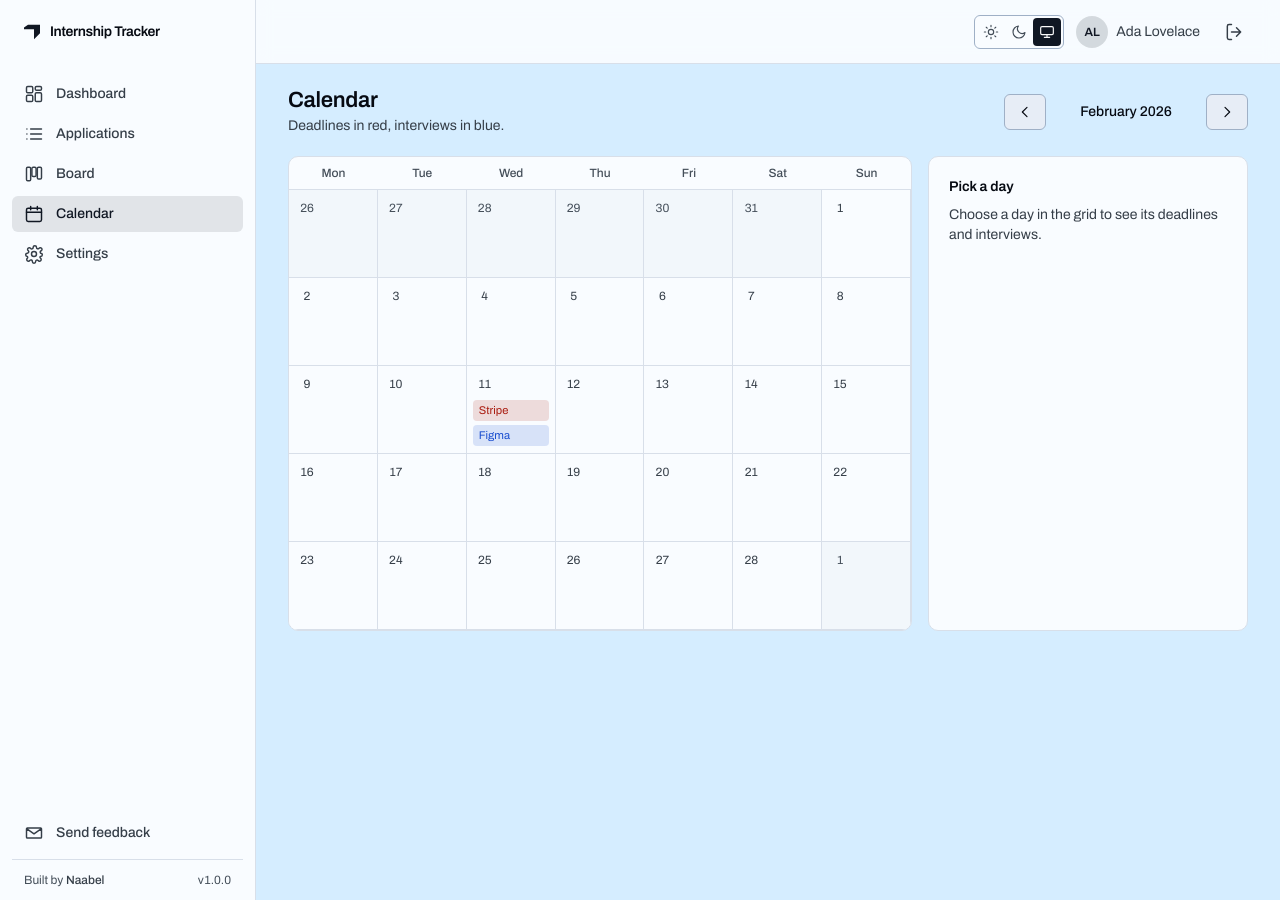
Test: month navigation › walks back a month too
Expected: the text "February 2026" is shown, [1080,104,1172,119]
Click the button named "Previous month" at (1025, 112), box [1004,94,1046,130]
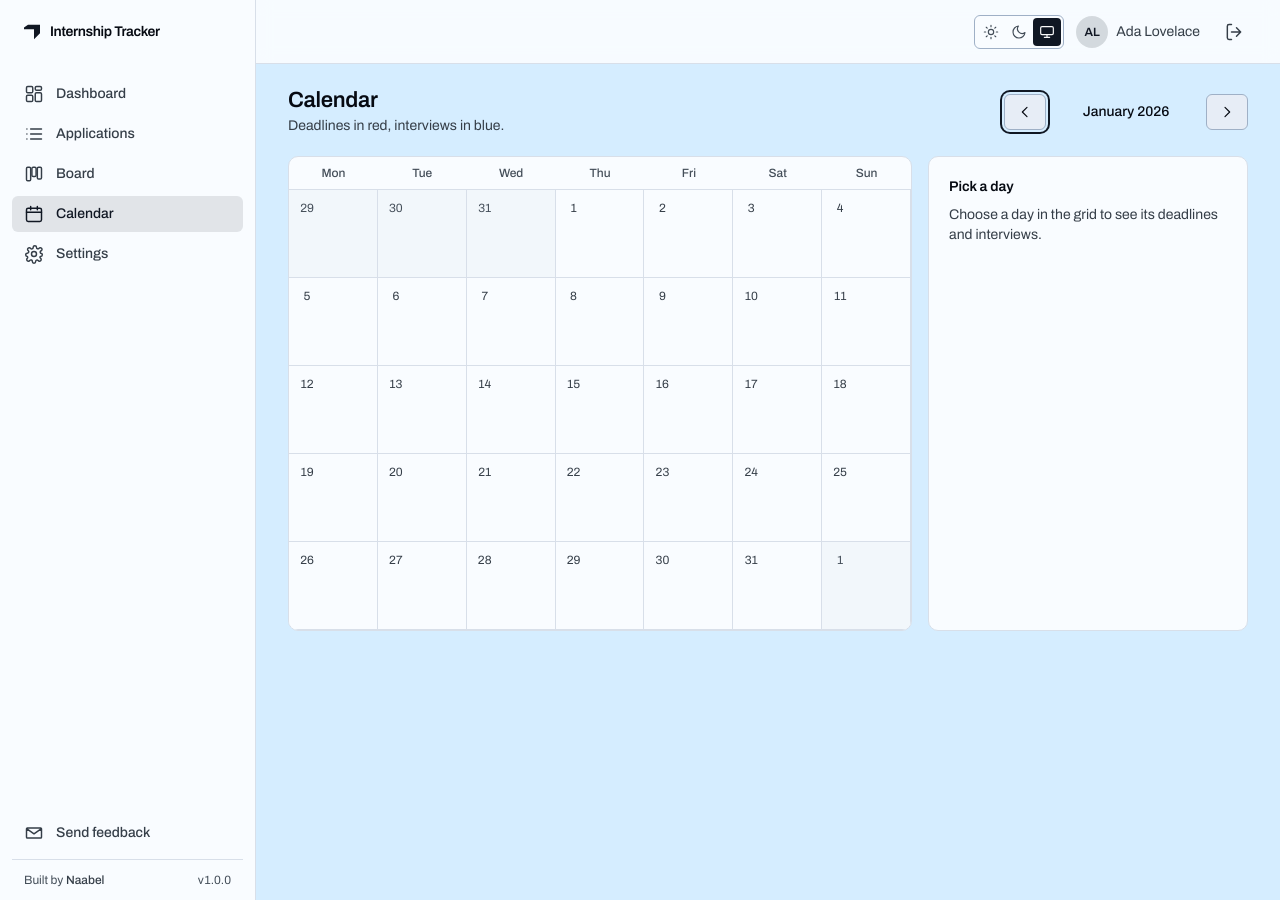
Expected: the text "January 2026" is shown, [1083,104,1169,119]
